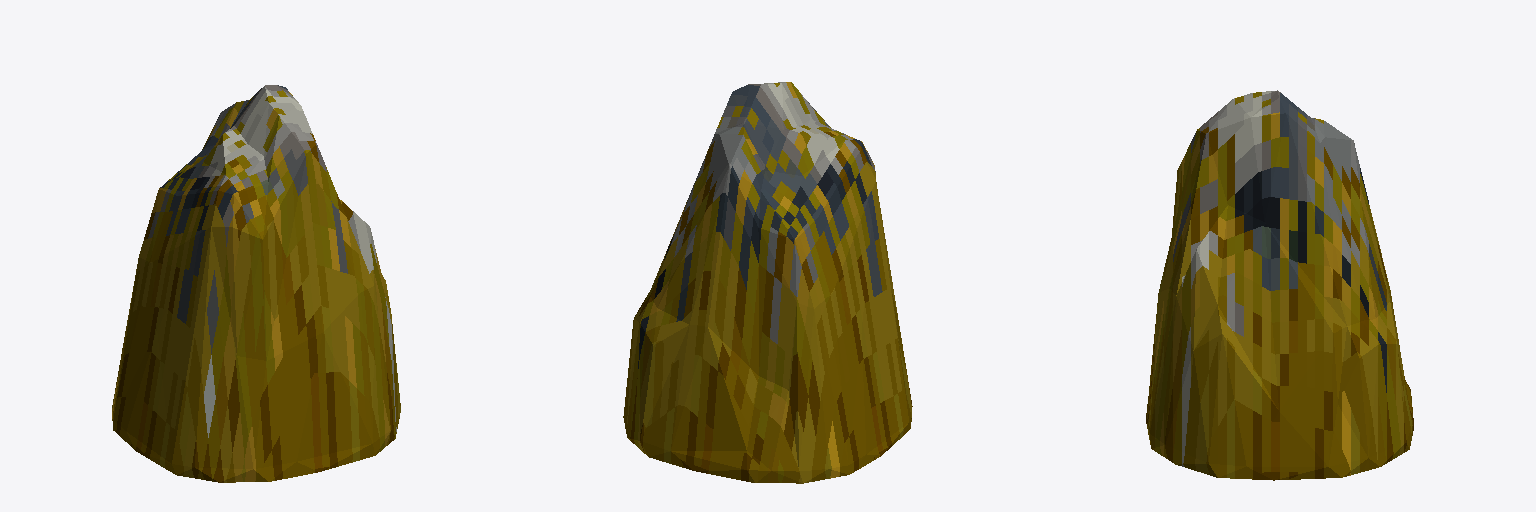
3 renders of one model, left to right at view 1: azimuth 30°, elevation 25°; view 2: azimuth 150°, elevation 25°; view 3: azimuth 270°, elevation 25°, orthographic.
Parts seen in each view (by area): view 1: Cube; view 2: Cube; view 3: Cube.
Boxes of the visible parts, x1=… form: Cube: x1=112, y1=85, x2=400, y2=482; Cube: x1=623, y1=82, x2=912, y2=483; Cube: x1=1146, y1=90, x2=1413, y2=480.
Size of the model in its own units: 0.962 by 1.34 by 0.9602.
1 materials, 1 textured.